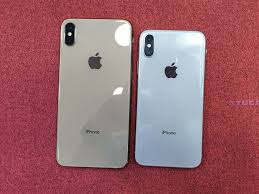iphone: (59, 18, 130, 168), (134, 25, 205, 172)
